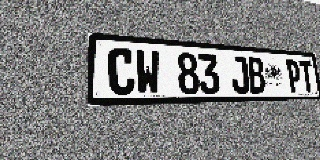3: (198, 53, 220, 94)
8: (177, 52, 200, 94)
B: (247, 57, 266, 93)
C: (108, 47, 135, 95)
J: (230, 56, 250, 94)
P: (285, 59, 303, 93)
T: (299, 60, 315, 93)
W: (135, 49, 161, 95)
